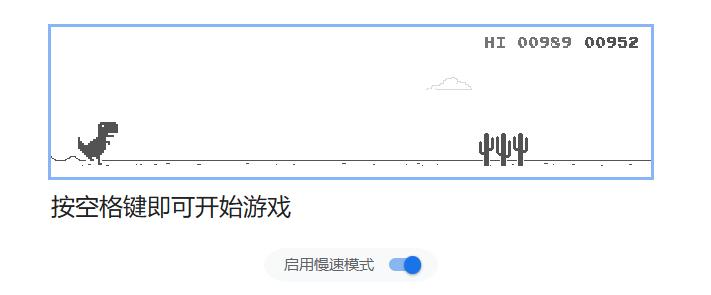cactus: (477, 131, 530, 168)
dino: (78, 120, 123, 166)
